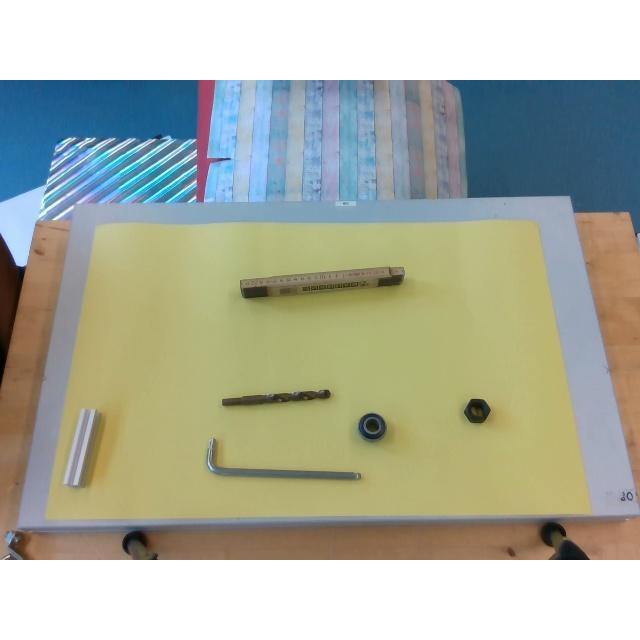AllenKey: (205, 436, 362, 480)
Bearing2: (358, 412, 386, 440)
Drill: (221, 389, 331, 405)
F20_20_G: (62, 408, 101, 488)
M20: (464, 398, 490, 422)
